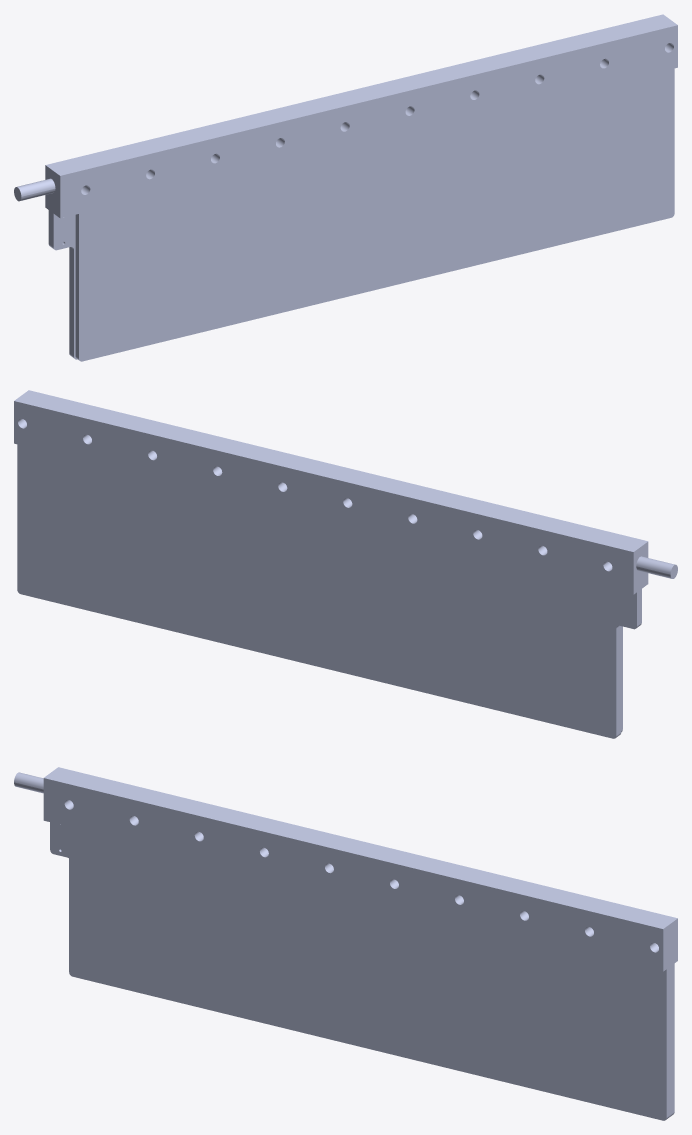
Rendered from MUD-9.glb.
3 views of the same model, one above another, from view 1: azimuth 30°, elevation 25°; view 2: azimuth 150°, elevation 25°; view 3: azimuth 330°, elevation 25° (orthographic).
Visible parts, largest first — view 1: MUC-9_node; view 2: MUC-9_node; view 3: MUC-9_node.
Part boxes in pixels (x1,y1,x2,y2): MUC-9_node: (14,14,677,361); MUC-9_node: (14,390,677,738); MUC-9_node: (14,767,677,1120).
Bounding box in the file's own units: 382 × 109 × 15.
